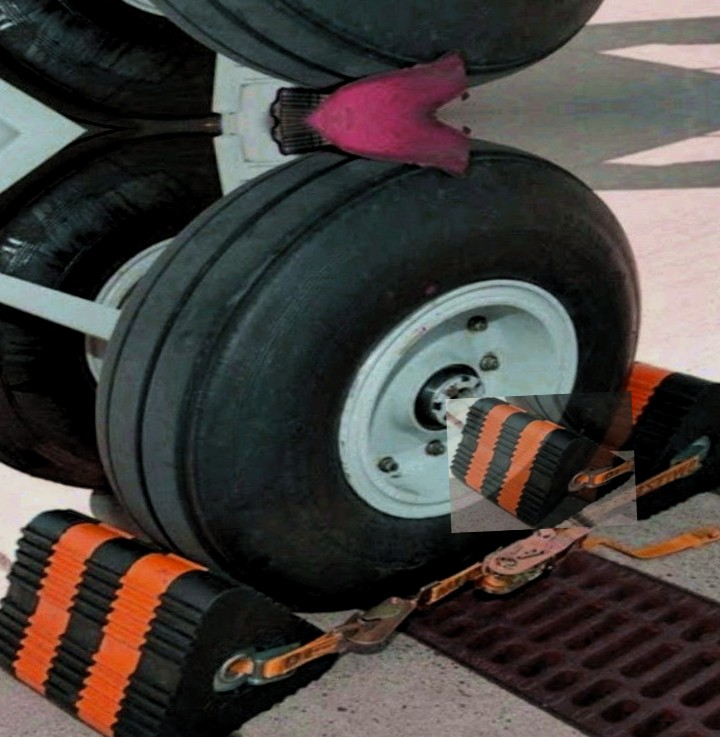chock: (0, 497, 348, 737), (521, 353, 720, 527), (446, 391, 637, 533)
wheel: (95, 128, 658, 610), (0, 129, 232, 490)
